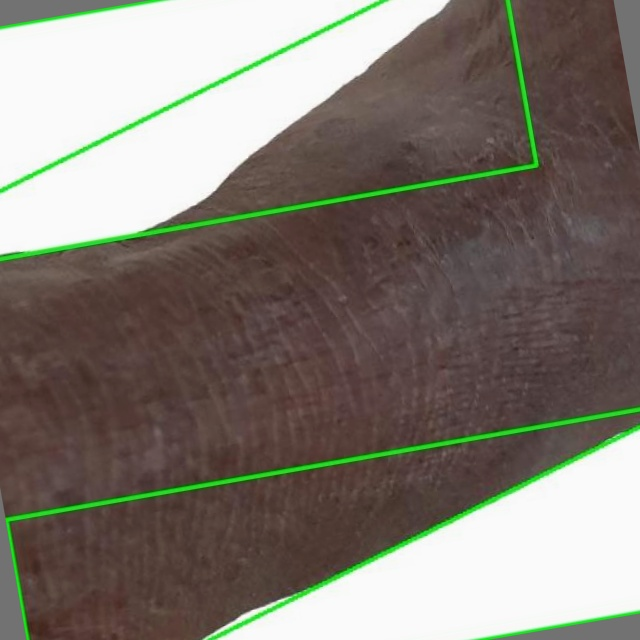Contact Dermatitis: (0, 0, 639, 639), (6, 409, 639, 639), (0, 0, 536, 259)
